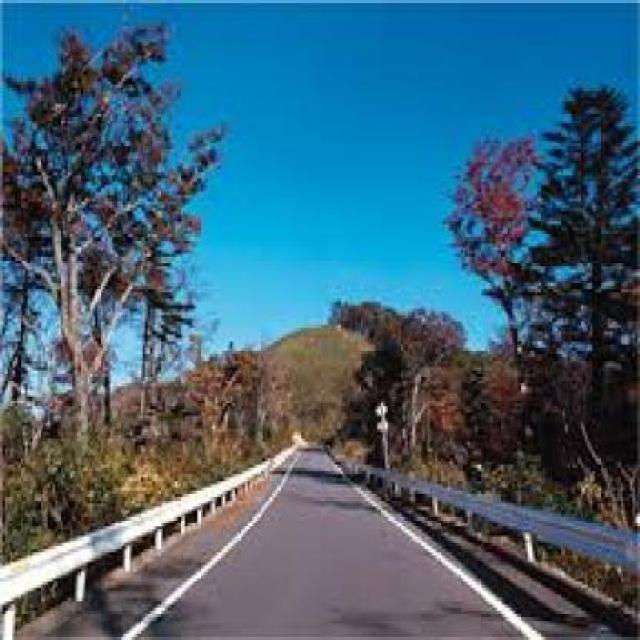Guard rail: (0, 444, 284, 640), (334, 449, 640, 620)
